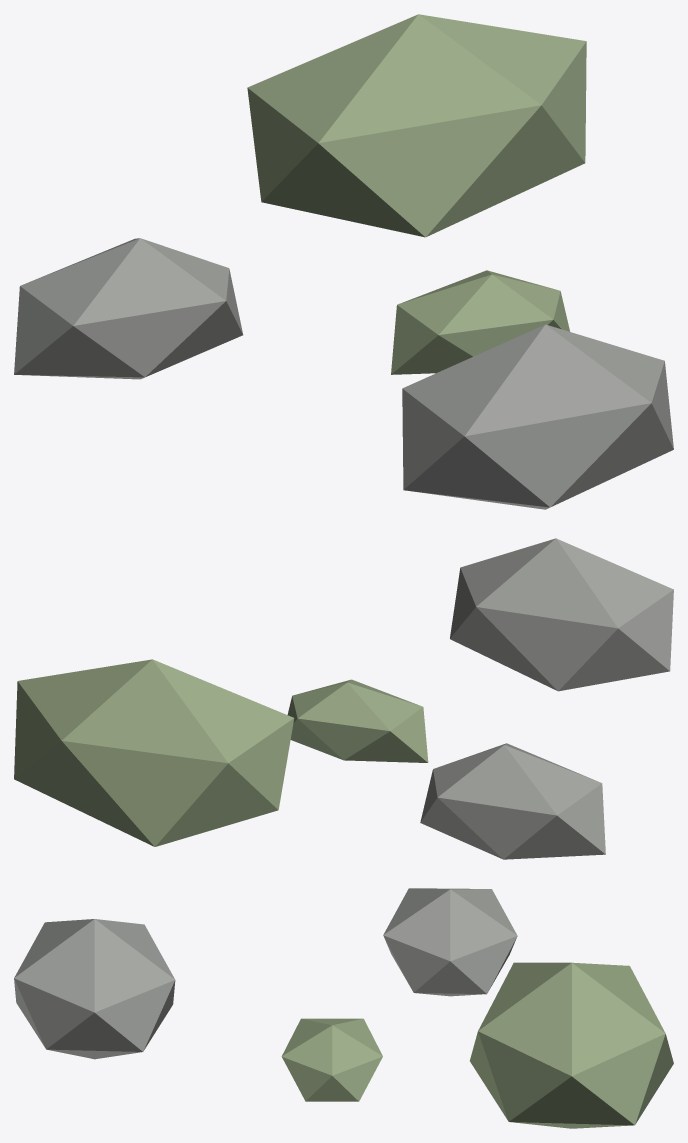
File: norway-scree_lod1.glb
3 renders of one model, top to bottom at view 1: azimuth 30°, elevation 25°; view 2: azimuth 150°, elevation 25°; view 3: azimuth 270°, elevation 25°, orthographic. The views are drawn at different scales.
Visible parts, largest first — view 1: RF_Scree3, RF_Scree2, RF_Scree1, RF_Scree0; view 2: RF_Scree3, RF_Scree2, RF_Scree1, RF_Scree0; view 3: RF_Scree3, RF_Scree2, RF_Scree1, RF_Scree0.
Boxes of the visible parts, bbox=[...] form: RF_Scree3: bbox=[247, 14, 586, 237]; RF_Scree2: bbox=[402, 324, 673, 509]; RF_Scree1: bbox=[14, 238, 243, 379]; RF_Scree0: bbox=[391, 270, 569, 374]; RF_Scree3: bbox=[14, 659, 294, 846]; RF_Scree2: bbox=[450, 538, 673, 691]; RF_Scree1: bbox=[420, 743, 605, 859]; RF_Scree0: bbox=[287, 679, 428, 762]; RF_Scree3: bbox=[470, 962, 673, 1128]; RF_Scree2: bbox=[14, 919, 175, 1059]; RF_Scree1: bbox=[383, 888, 517, 996]; RF_Scree0: bbox=[281, 1018, 382, 1101].
Bounding box in the file's own units: 4.64 × 1.49 × 5.37.
